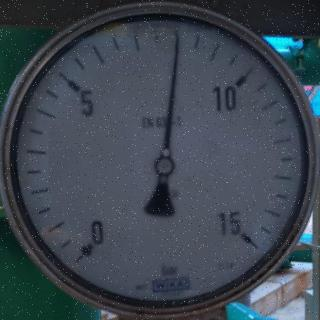gauge: (0, 0, 320, 320), (214, 207, 270, 263), (68, 226, 108, 266), (152, 154, 176, 178), (170, 28, 183, 46)
